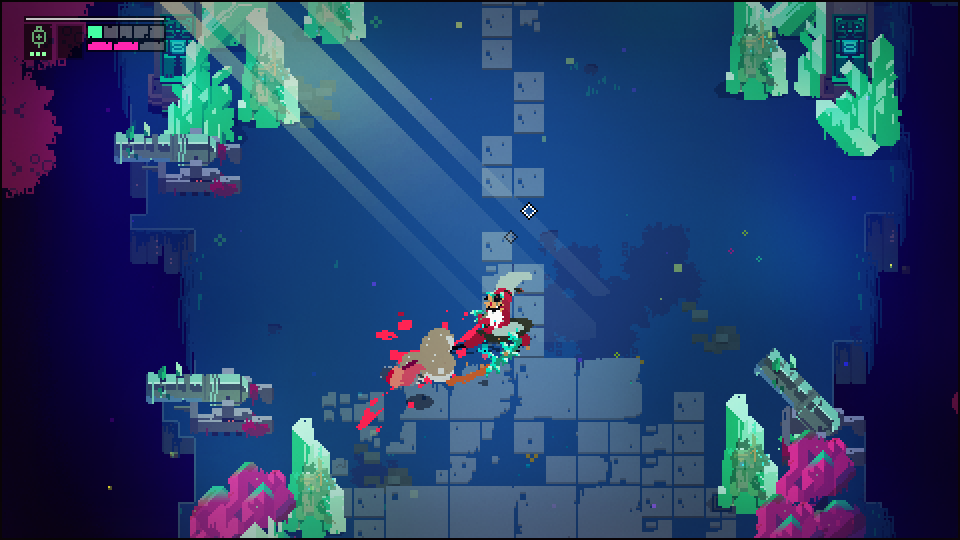hanged_man: (455, 267, 535, 382)
player: (381, 362, 439, 407)
